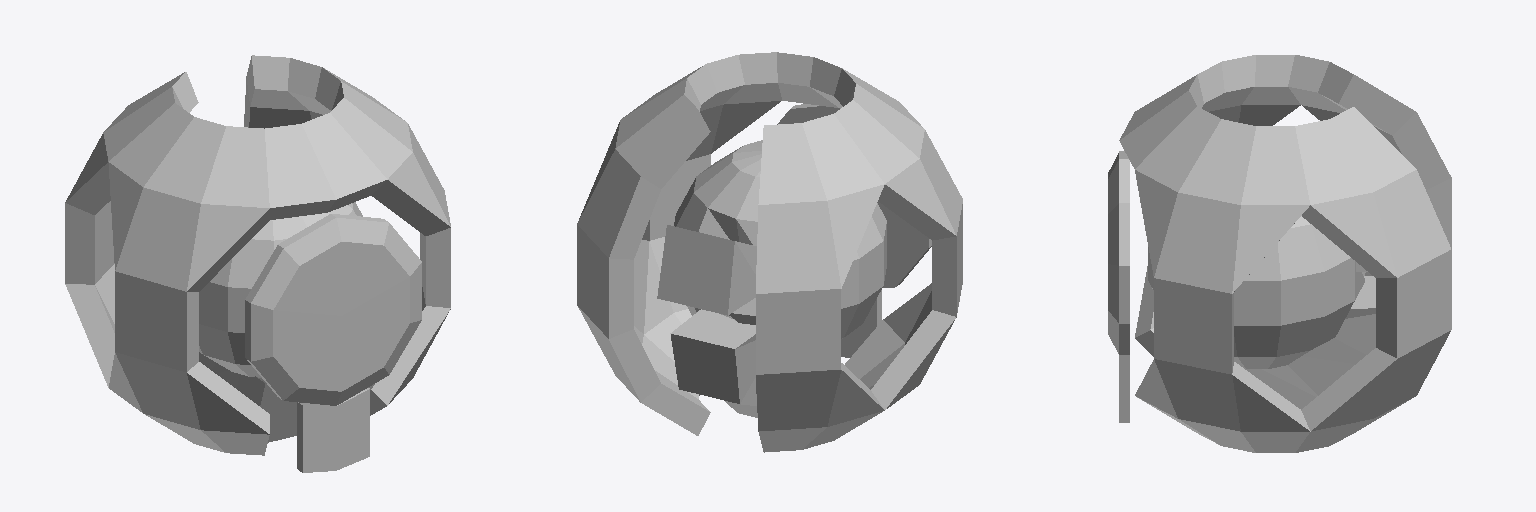
The picture shows the model from 3 angles: view 1: azimuth 30°, elevation 25°; view 2: azimuth 150°, elevation 25°; view 3: azimuth 270°, elevation 25°; orthographic projection.
Parts seen in each view (by area): view 1: Esfera; view 2: Esfera; view 3: Esfera.
Boxes of the visible parts, <box> form: Esfera: <box>65,55,450,472</box>; Esfera: <box>577,52,962,452</box>; Esfera: <box>1108,55,1451,452</box>.
Bounding box in the file's own units: 1.9 × 1.82 × 1.71.